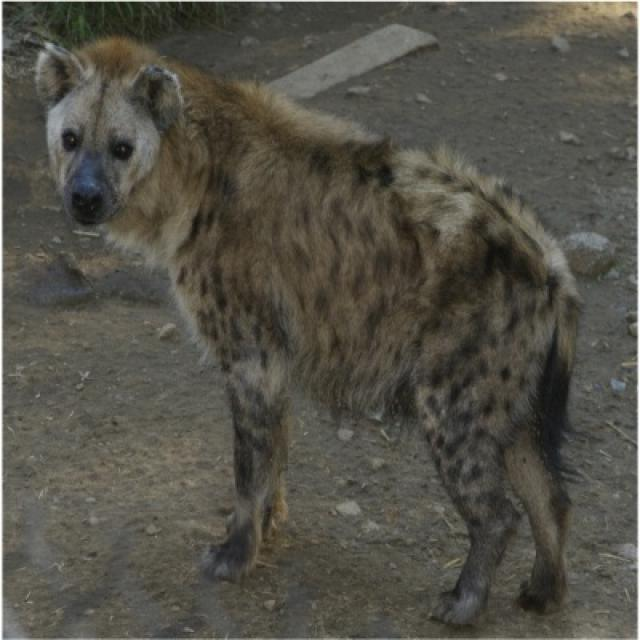hyena: (30, 37, 584, 630)
